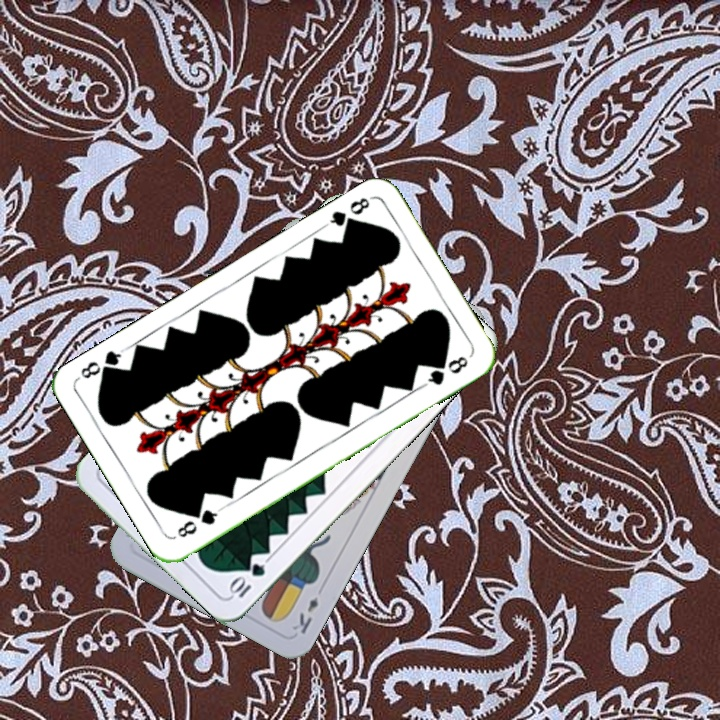EK: (288, 593, 321, 637)
G10: (225, 559, 268, 601)
G8: (320, 193, 374, 234), (173, 504, 224, 541)
